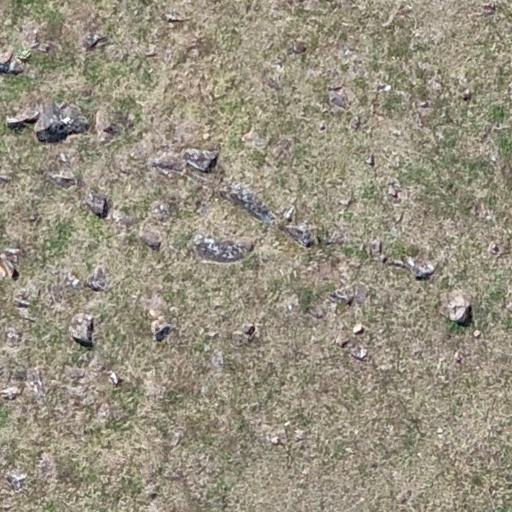stone: (220, 182, 280, 224), (439, 292, 473, 326), (149, 152, 191, 177), (68, 312, 97, 348), (330, 282, 369, 307), (81, 188, 111, 220), (280, 222, 316, 248), (183, 148, 220, 173), (5, 107, 41, 131), (403, 256, 435, 281), (84, 265, 110, 293), (138, 226, 164, 251), (150, 316, 173, 342), (47, 170, 78, 189), (327, 86, 351, 110), (270, 137, 294, 160), (82, 32, 108, 52), (150, 201, 172, 221), (264, 74, 282, 92), (289, 41, 307, 55), (388, 183, 400, 199), (394, 211, 405, 225), (454, 350, 463, 364), (338, 338, 350, 348), (146, 491, 158, 501), (318, 120, 327, 132)
